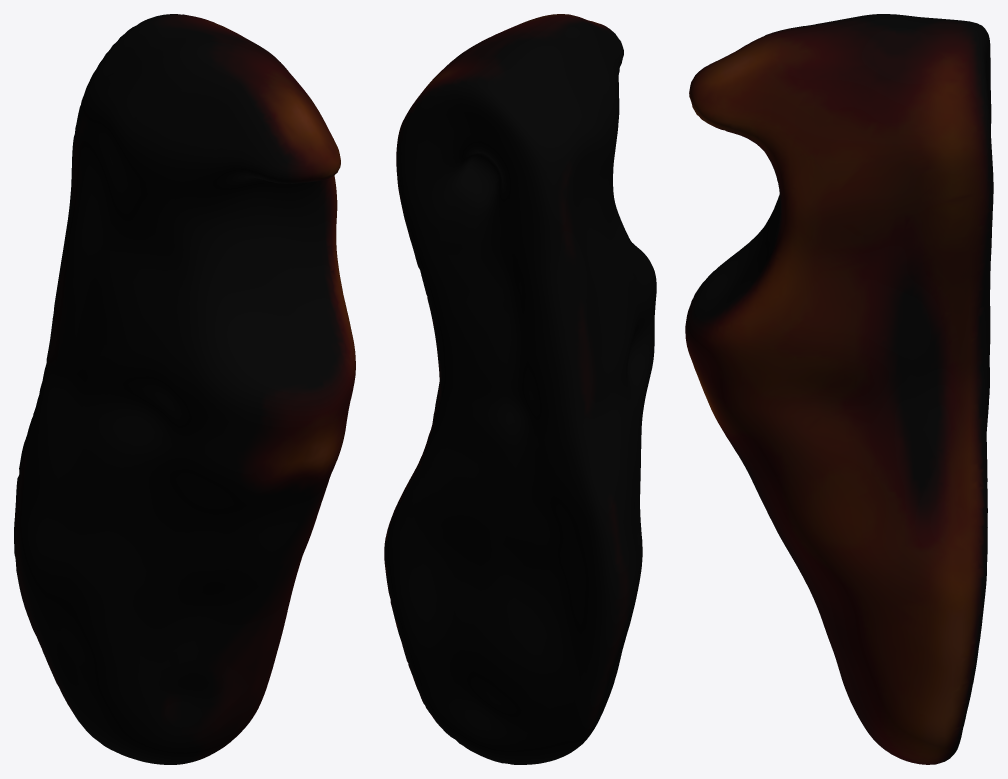
File: shoe3.glb
3 renders of one model, left to right at view 1: azimuth 30°, elevation 25°; view 2: azimuth 150°, elevation 25°; view 3: azimuth 270°, elevation 25°, orthographic. The views are drawn at different scales.
Size of the model in its own units: 0.3553 by 0.9996 by 0.3777.
